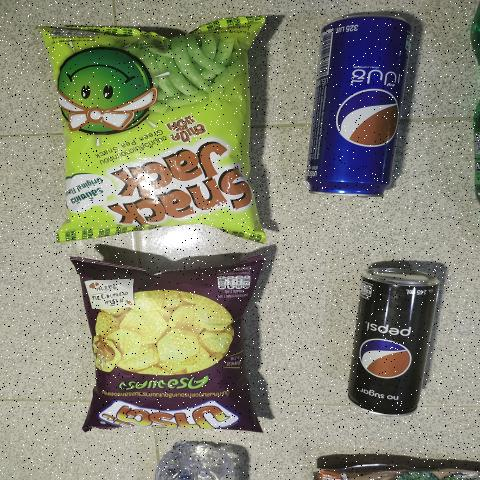party_purple: (88, 270, 255, 436)
pepsi_black: (336, 260, 431, 420)
pepsi_blue: (303, 12, 424, 212)
snack_jack: (51, 25, 236, 234)
